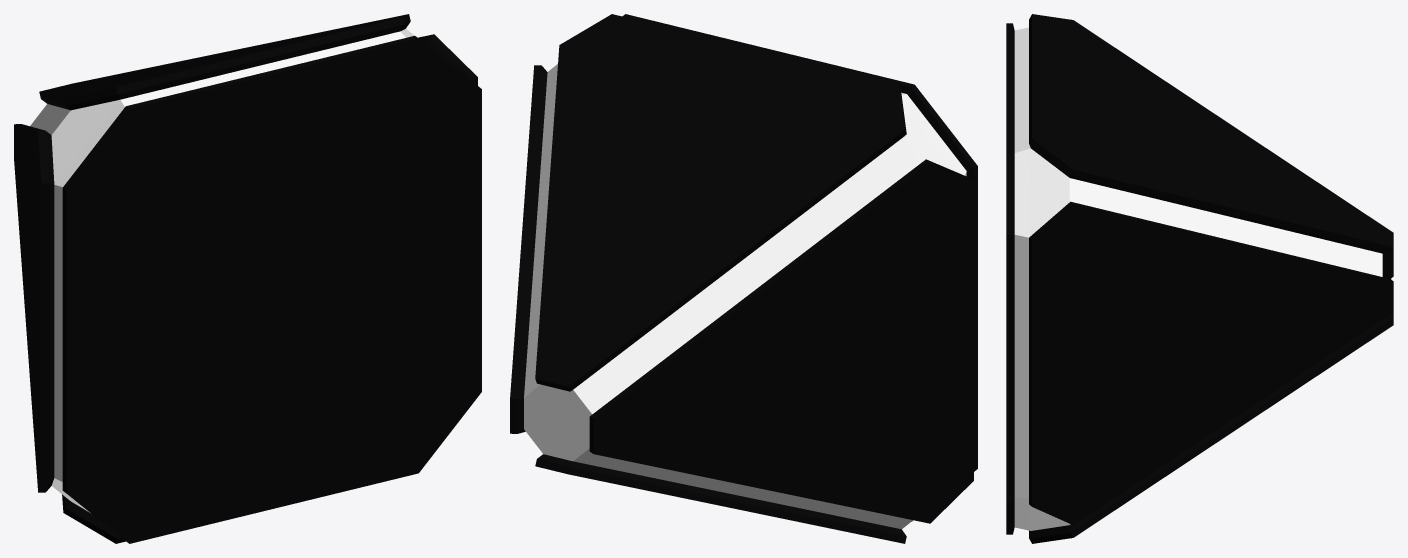
File: Pyramide.fbx
3 renders of one model, left to right at view 1: azimuth 30°, elevation 25°; view 2: azimuth 150°, elevation 25°; view 3: azimuth 270°, elevation 25°, orthographic. The views are drawn at different scales.
Visible parts, largest first — view 1: Pyramide; view 2: Pyramide; view 3: Pyramide.
Boxes of the visible parts, x1,y1,x2,y2 form: Pyramide: (14,14,481,543); Pyramide: (510,14,977,543); Pyramide: (1006,14,1393,543).
Size of the model in its own units: 0.9911 by 0.9911 by 0.8584.
1 material, 1 textured.
